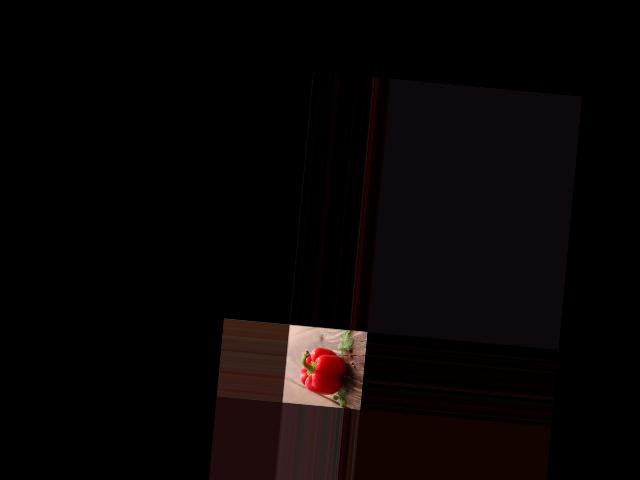bell_pepper: (294, 343, 349, 399)
